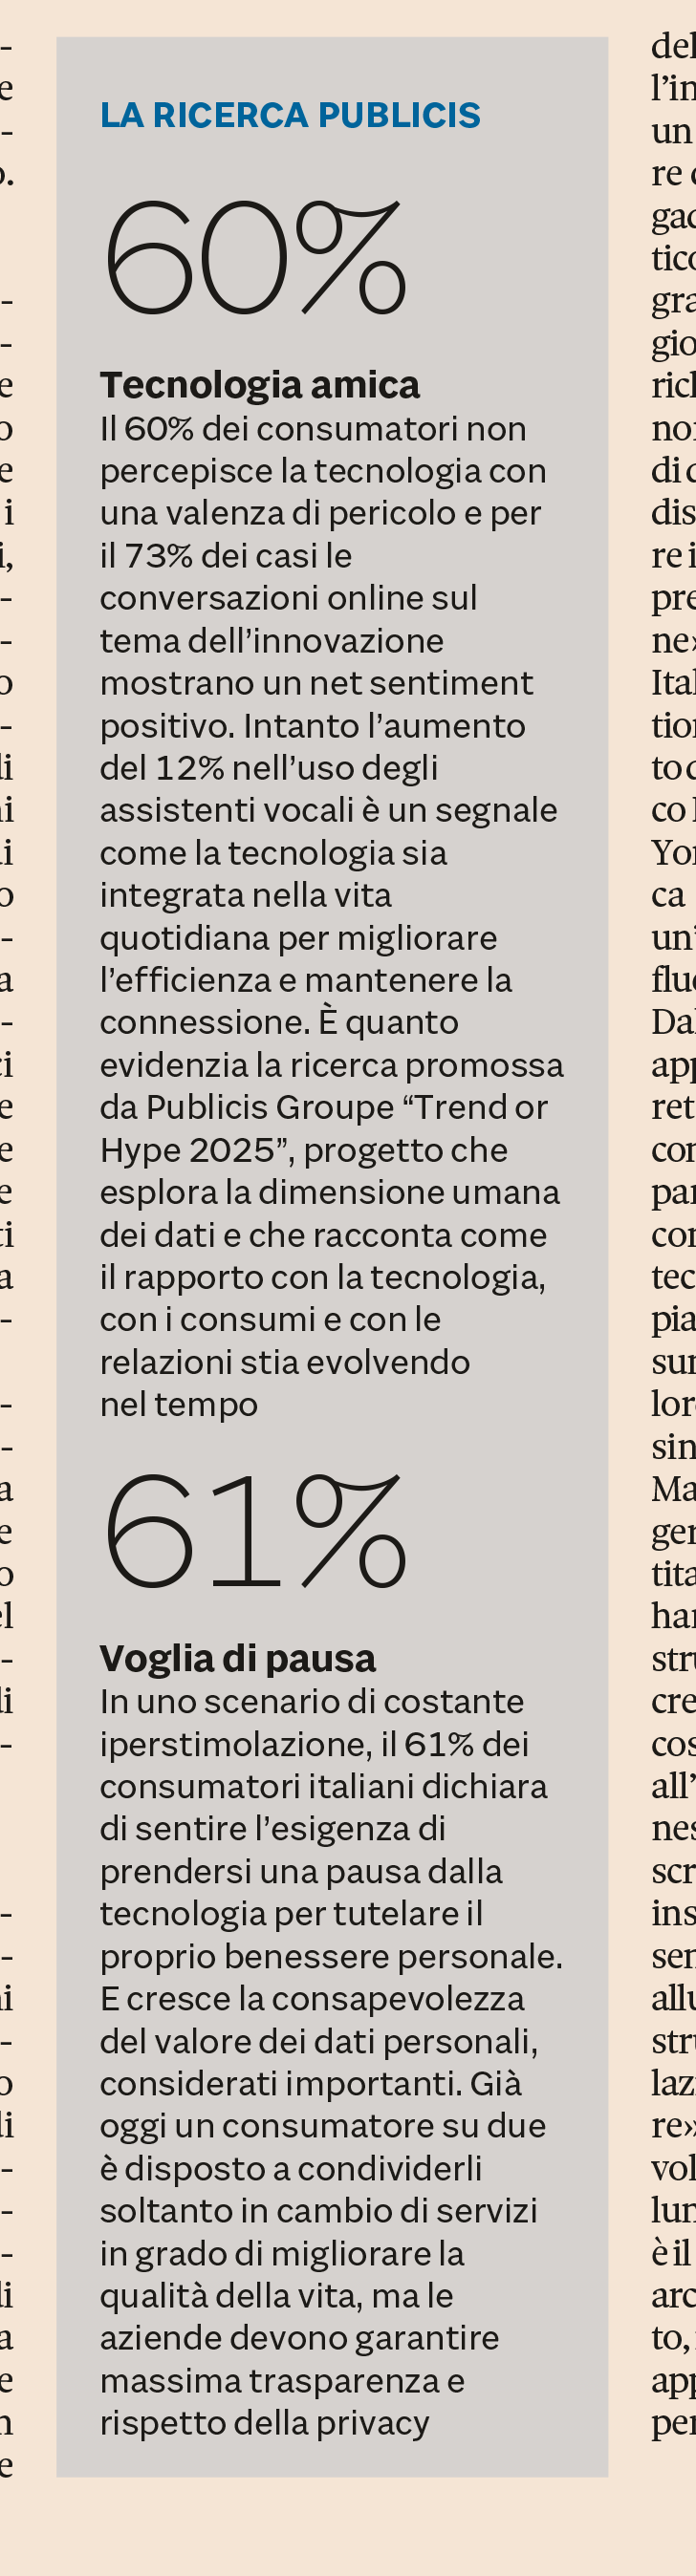scheda-numerone-1: (63, 153, 597, 1447), (67, 1426, 604, 2472)
